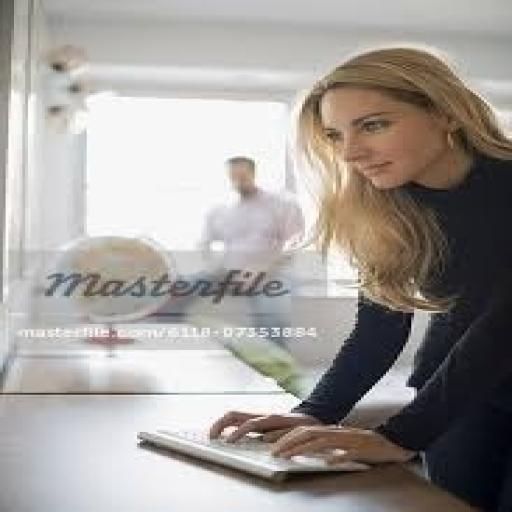texting: (204, 45, 509, 510)
